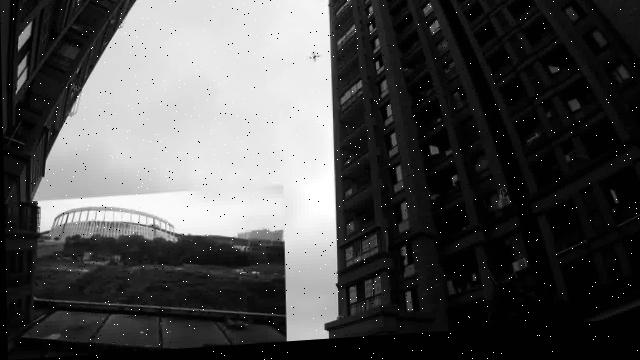drone: (279, 40, 335, 82)
